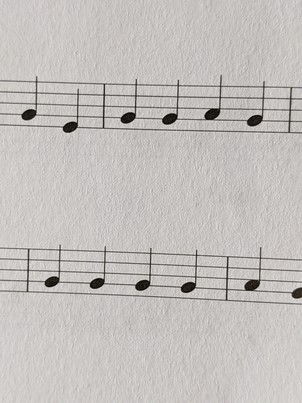note: (200, 74, 228, 142), (83, 240, 113, 303), (114, 72, 143, 133), (173, 247, 202, 307), (38, 239, 66, 297), (238, 245, 264, 307), (243, 78, 270, 137), (60, 78, 86, 139), (15, 74, 44, 128), (130, 245, 156, 303), (158, 76, 183, 136)
